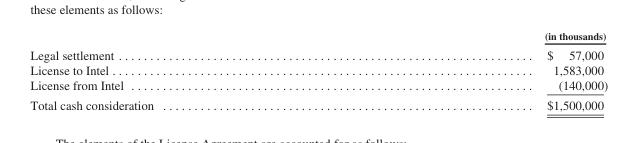table: (29, 29, 607, 112)
table column: (29, 29, 348, 112), (348, 29, 607, 112)
table column header: (29, 29, 607, 44)
table row: (29, 44, 607, 62), (29, 94, 607, 112), (29, 77, 607, 94), (29, 29, 607, 44), (29, 62, 607, 77)
